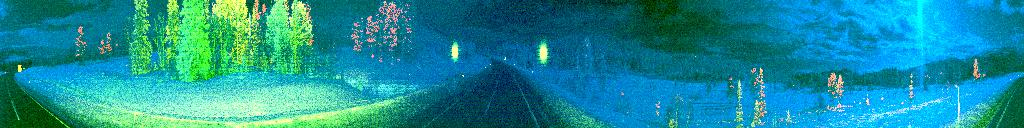pole: (954, 83, 963, 128), (131, 101, 140, 128)
